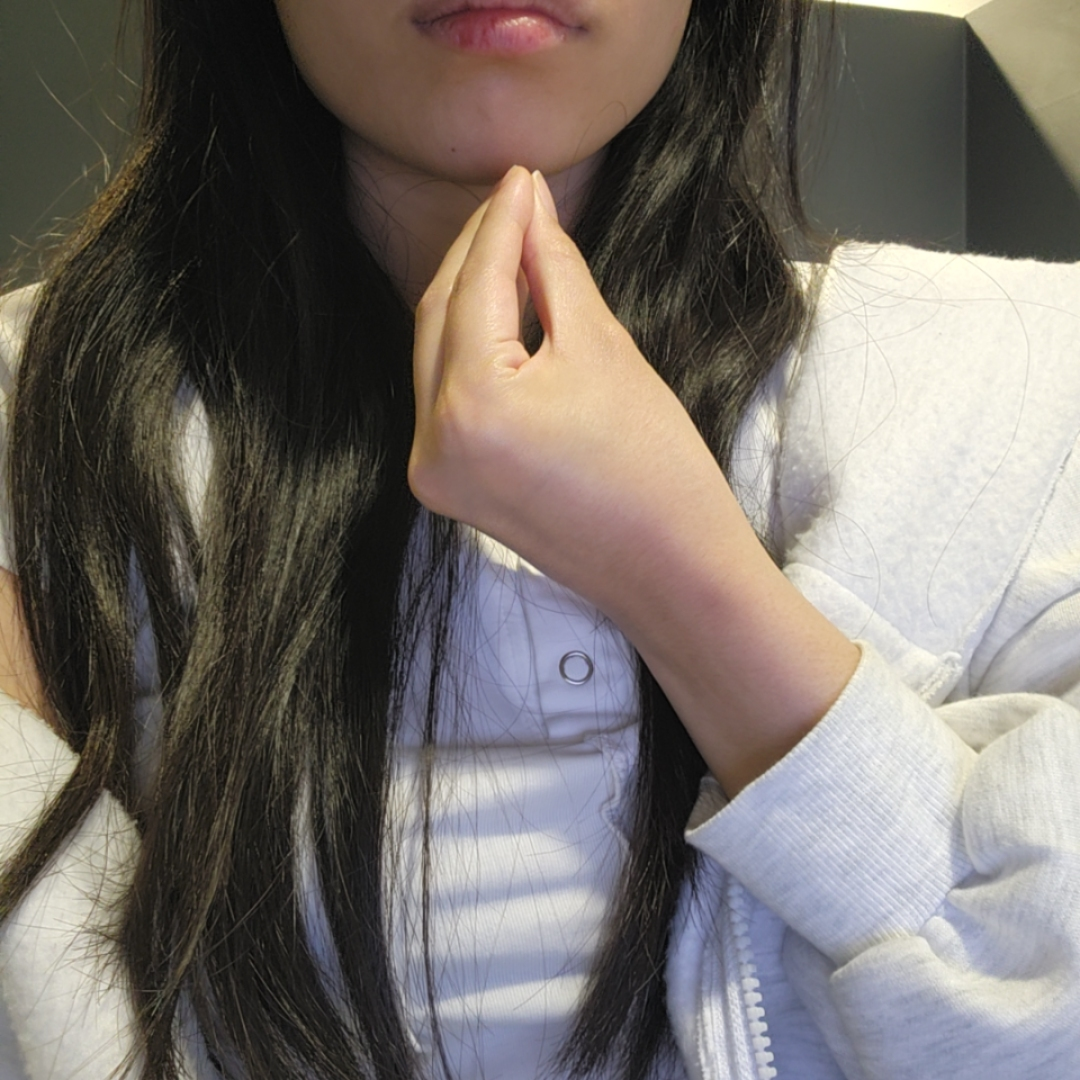happy: (402, 166, 691, 607)
